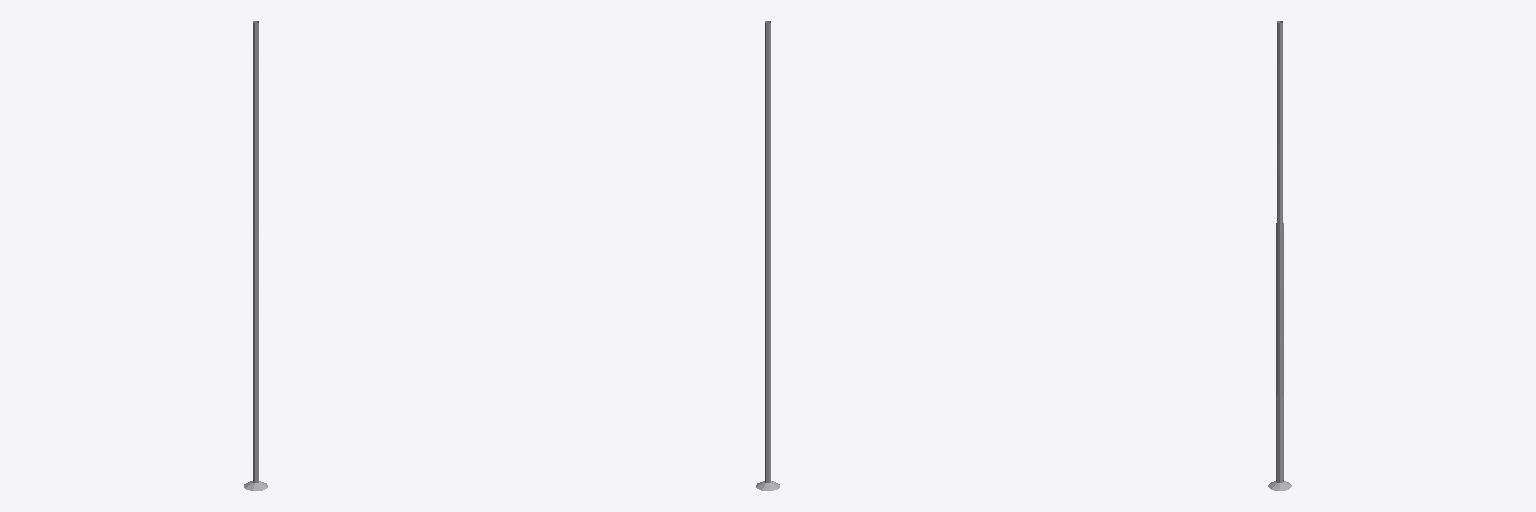
robot.urdf — ur5e:
<robot name="ur5e" xmlns:xacro="http://ros.org/wiki/xacro">
    <link name="tree">
        <visual>
        <geometry>
            <mesh filename="meshes_and_urdf/meshes/trees/envy/train_labelled_split/tree_135_TRUNK.obj" scale="1 1 1"/>
        </geometry>
        <material name="LightGrey">
            <color rgba="0.7 0.7 0.7 0.0"/>
        </material>
        </visual>
        <collision concave = "true">
        <geometry>
            <mesh filename="meshes_and_urdf/meshes/trees/envy/train_labelled_split/tree_135_TRUNK.obj" scale="1 1 1"/>
        </geometry>
        </collision>
        <inertial>
        <mass value="4.0"/>
        <origin rpy="0 0 0" xyz="0.0 0.0 0.0"/>
        <inertia ixx="0.00443333156" ixy="0.0" ixz="0.0" iyy="0.00443333156" iyz="0.0" izz="0.0072"/>
        </inertial>
    </link>
        <link name="world"/>
    <joint name="tree_joint" type="fixed">
        <parent link="world"/>
        <child link="tree"/>
        <origin rpy="0.0 0.0 0.0" xyz="0.0 0.0 0.0"/>
    </joint>
    </robot>

--- Facts derived from the render (not from the file) ---
3 views of the same robot in one strip: view 1: azimuth 30°, elevation 25°; view 2: azimuth 150°, elevation 25°; view 3: azimuth 270°, elevation 25° (orthographic).
Robot: ur5e — 2 links, 1 joints (1 fixed); root link world; default pose: all joints at 0.
Links seen in each view (by area): view 1: tree; view 2: tree; view 3: tree.
Boxes of the visible links, x1,y1,x2,y2 form: tree: (244, 21, 267, 490); tree: (756, 21, 779, 490); tree: (1268, 21, 1291, 490).
Size in the robot's own frame: 0.2 by 0.2 by 4 metres.
1 mesh visuals loaded from 1 distinct referenced files (1 OBJ).
